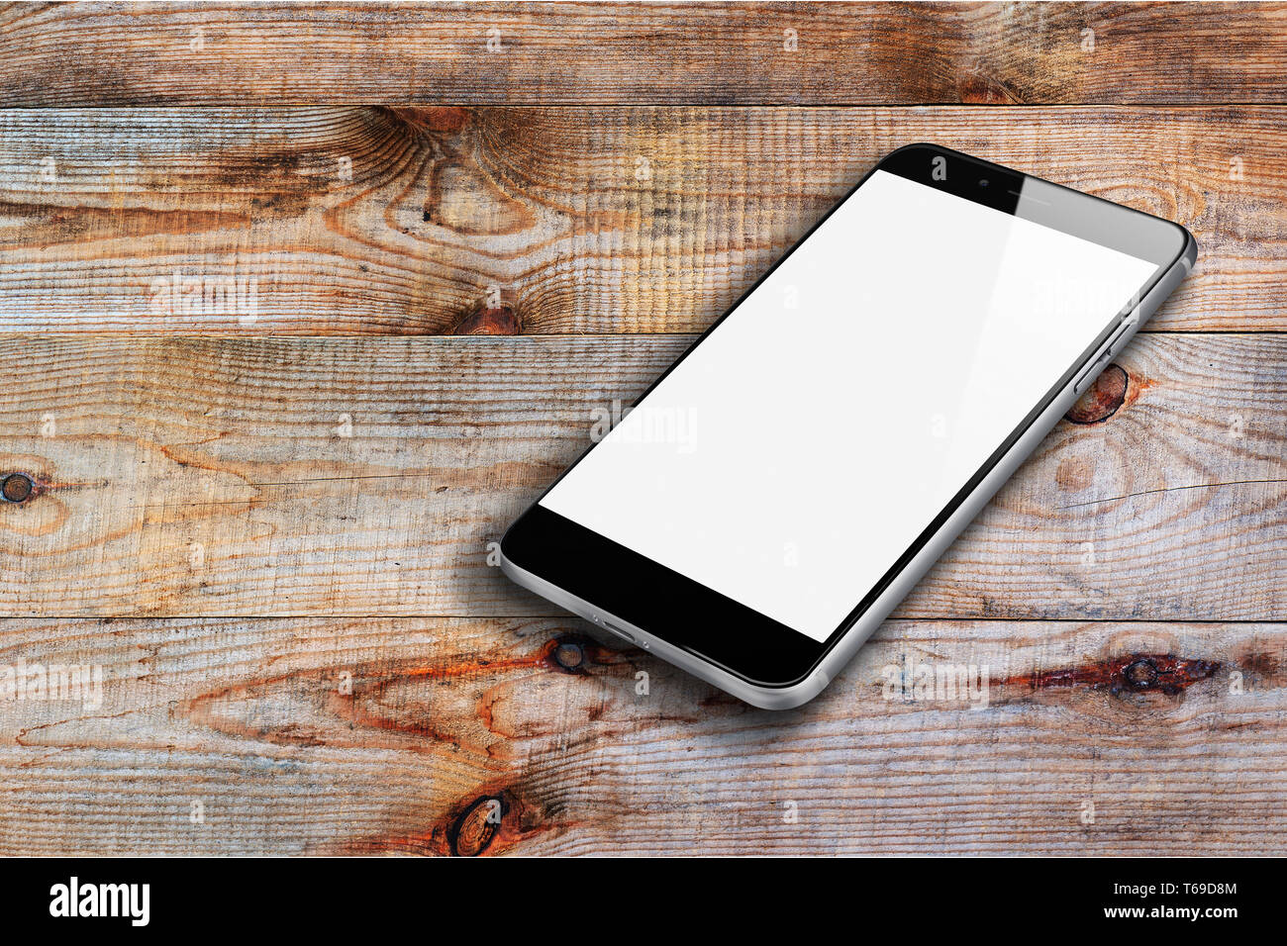mobile: (501, 143, 1197, 709)
